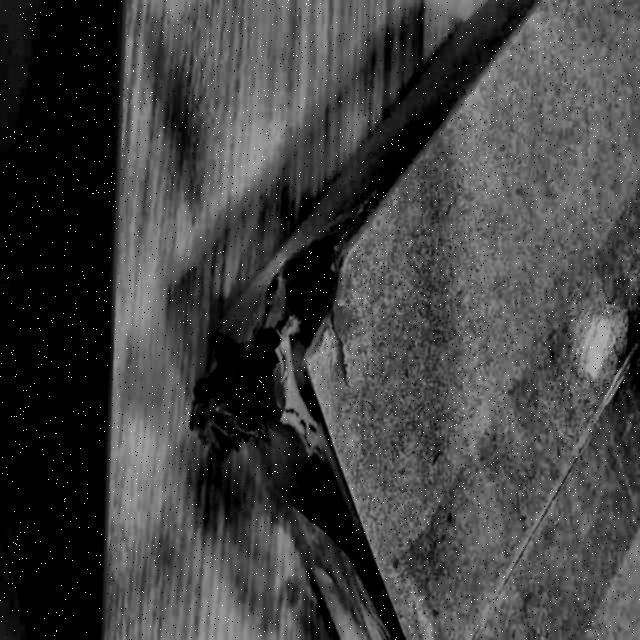box: (99, 1, 640, 640)
hole: (221, 285, 353, 445)
